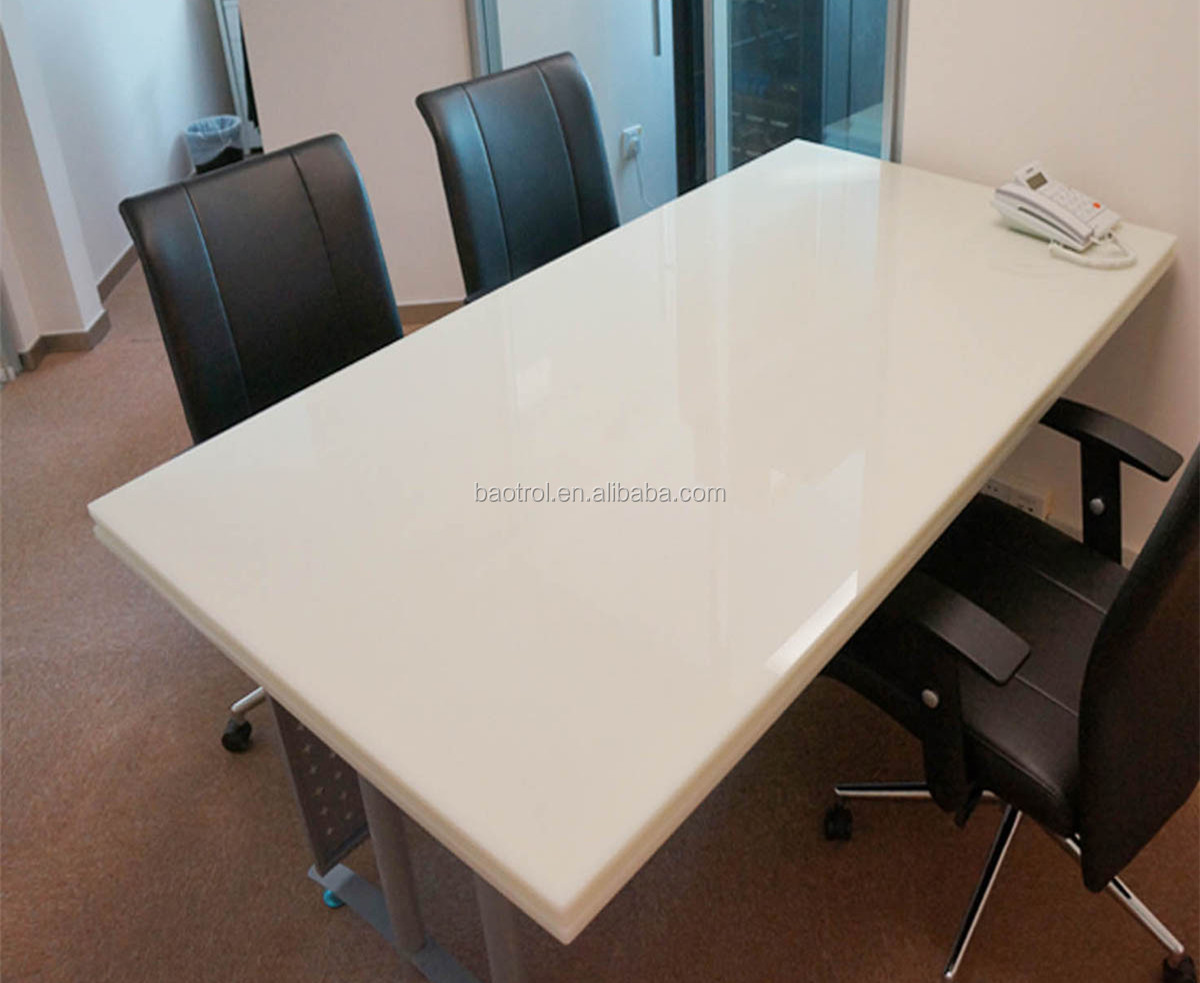conference_table: (97, 137, 1181, 945)
